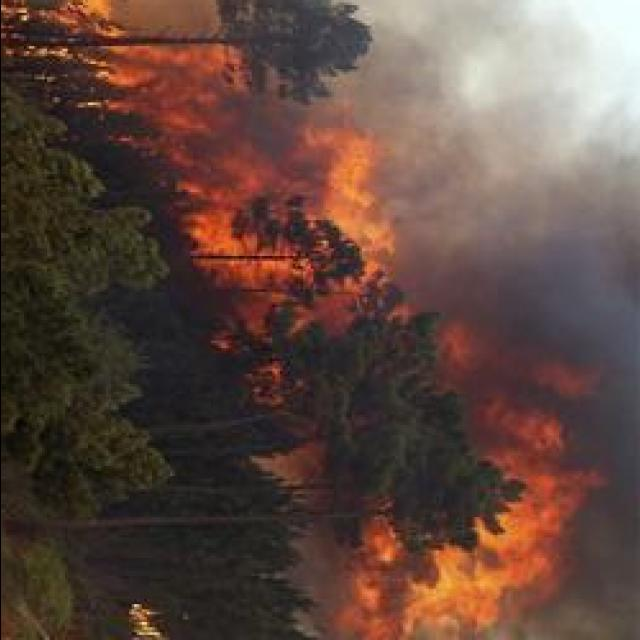fire: (348, 543, 550, 640), (324, 129, 390, 259)
smoke: (397, 0, 637, 261), (443, 228, 637, 346), (463, 346, 640, 472), (188, 80, 314, 172)
